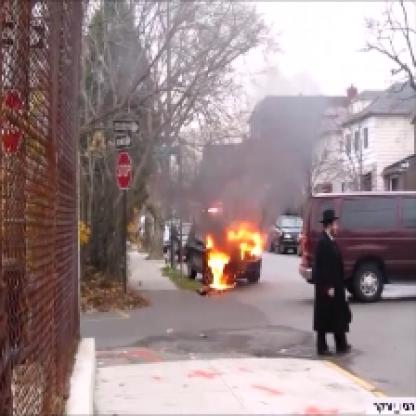Fire: (193, 193, 262, 292)
